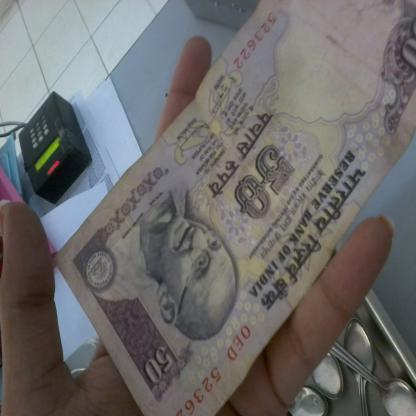Old50Front: (55, 0, 416, 416)
